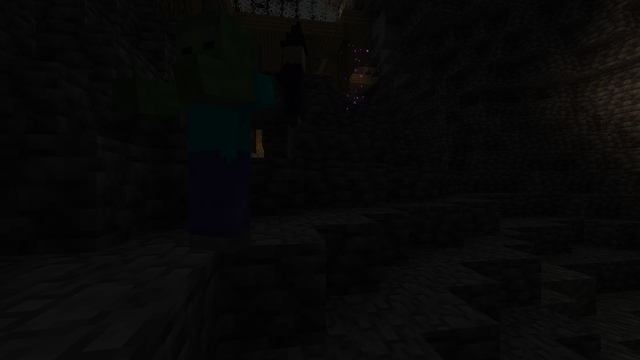sorcieres: (282, 40, 307, 127)
zombies: (171, 11, 254, 258)
